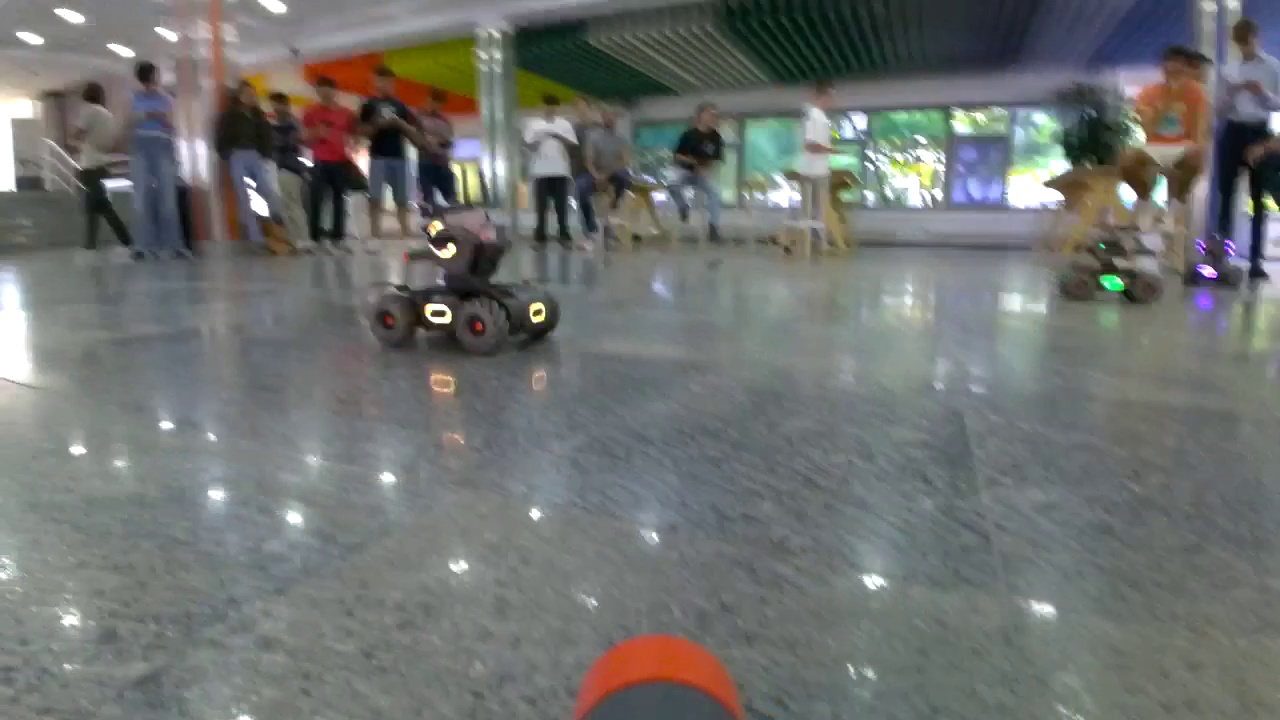robot: (361, 211, 560, 351), (1058, 238, 1162, 307), (1188, 231, 1244, 288)
